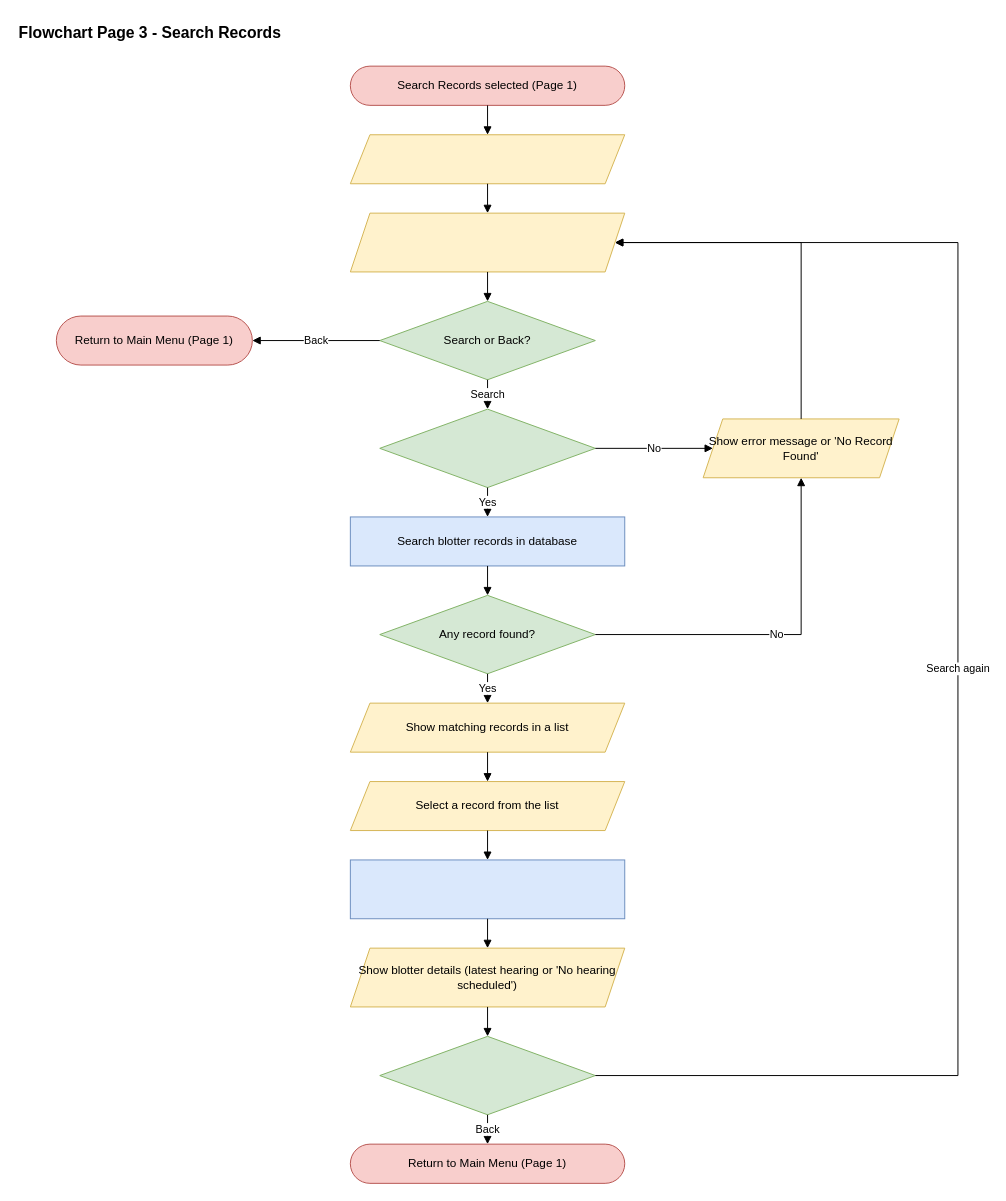
The diagram is 1006 pixels wide and 1201 high, and some of its shapes have lost their labels. Each missing label, with the centre of its shape:
Get blotter details and latest hearing from database: (x=487, y=889)
Search again or Back?: (x=487, y=1075)
Search text valid?: (x=487, y=448)
Select search type (name, blotter number or incident date) and enter search text: (x=487, y=242)
Show search form: (x=487, y=159)
